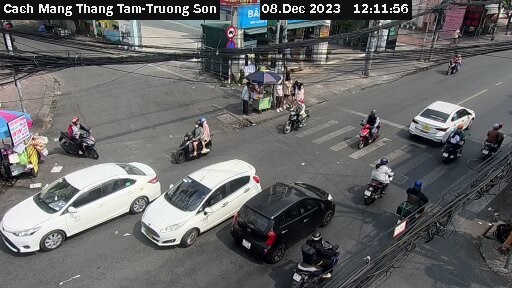car: (409, 94, 479, 143)
motorbike: (161, 119, 231, 160), (293, 232, 340, 283), (389, 181, 433, 233), (346, 109, 398, 151), (355, 159, 400, 201), (61, 118, 99, 161), (278, 100, 321, 134), (435, 126, 471, 164), (477, 119, 511, 157)
